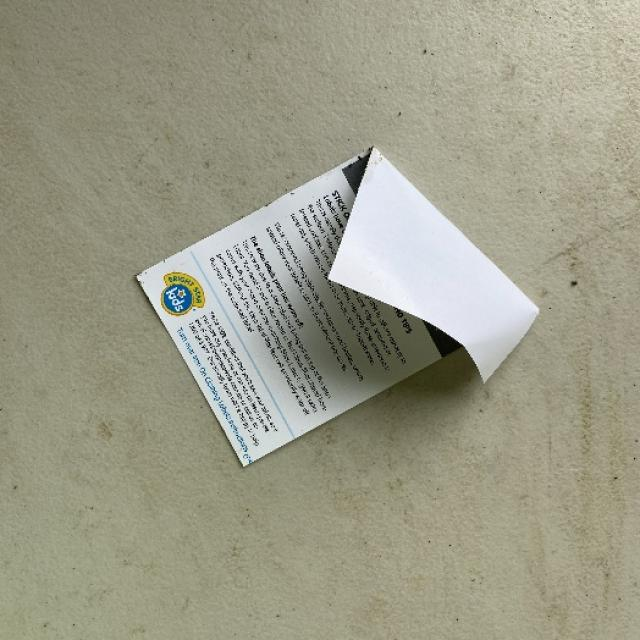paper: (136, 143, 542, 471)
